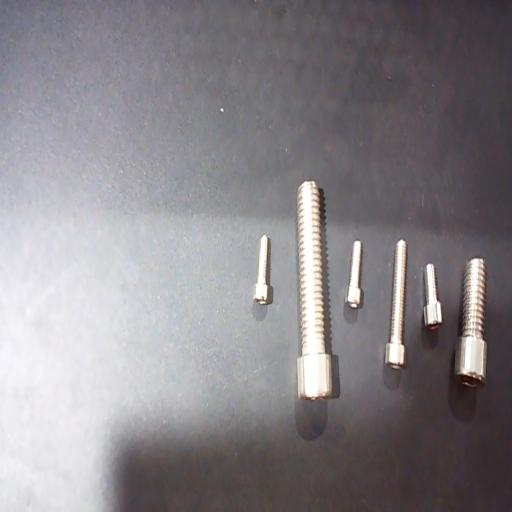screw: (295, 179, 333, 401), (454, 258, 487, 388), (384, 240, 407, 368), (422, 263, 442, 331), (254, 234, 270, 306), (346, 240, 362, 310)
